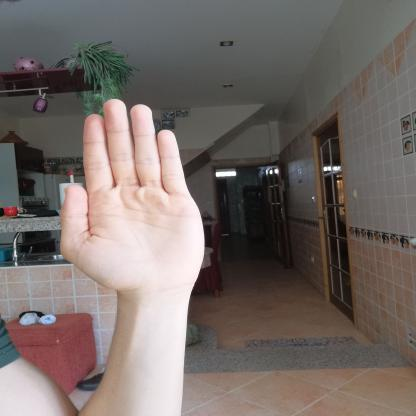SEEN: (47, 90, 215, 308)
